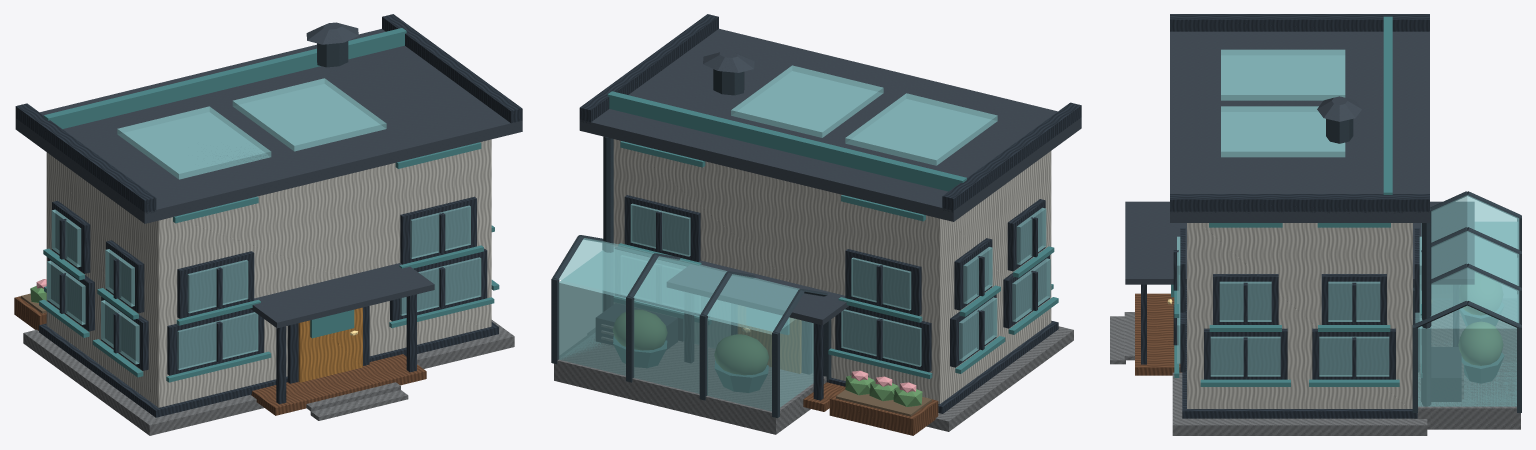
File: house_modern_lv4_greenhouse.glb
3 renders of one model, left to right at view 1: azimuth 30°, elevation 25°; view 2: azimuth 150°, elevation 25°; view 3: azimuth 270°, elevation 25°, orthographic.
Parts seen in each view (by area): view 1: walls, flat_roof, solar_panel.001, solar_panel, foundation, roof_terrace, front_porch_canopy, front_window_frame, front_deck, floor_trim, front_window_frame.002, front_window_frame.003 (+33 smaller); view 2: walls, flat_roof, greenhouse_glazing, greenhouse_plinth, greenhouse_roof, roof_terrace, solar_panel, solar_panel.001, back_porch_canopy, back_window_frame, back_window_frame.002, back_window_frame.003 (+38 smaller); view 3: flat_roof, walls, greenhouse_glazing, greenhouse_roof, solar_panel, solar_panel.001, greenhouse_plinth, foundation, parapet.001, parapet, front_porch_canopy, right_window_frame (+28 smaller).
Boxes of the visible parts, x1,y1,x2,y2 form: walls: (46,139,491,407); flat_roof: (15,29,522,223); solar_panel.001: (232,78,386,151); solar_panel: (117,106,271,179); foundation: (23,320,514,435); roof_terrace: (43,28,406,128); front_porch_canopy: (250,263,434,328); front_window_frame: (167,308,264,375); front_deck: (251,354,426,415); floor_trim: (39,322,498,417); front_window_frame.002: (177,251,254,318); front_window_frame.003: (400,196,476,264); walls: (613,139,1051,403); flat_roof: (579,28,1081,221); greenhouse_glazing: (558,247,813,411); greenhouse_plinth: (554,337,826,434); greenhouse_roof: (559,238,799,331); roof_terrace: (607,91,966,191); solar_panel: (845,93,997,165); solar_panel.001: (731,65,883,137); back_porch_canopy: (667,260,849,325); back_window_frame: (835,306,931,372); back_window_frame.002: (845,249,921,315); back_window_frame.003: (624,195,700,261); flat_roof: (1170,31,1429,222); walls: (1187,223,1412,408); greenhouse_glazing: (1418,222,1517,406); greenhouse_roof: (1415,195,1519,323); solar_panel: (1221,49,1345,100); solar_panel.001: (1221,106,1345,157); greenhouse_plinth: (1414,312,1520,429); foundation: (1172,372,1427,435); parapet.001: (1170,194,1429,213); parapet: (1170,14,1429,31); front_porch_canopy: (1125,201,1186,284); right_window_frame: (1204,328,1287,379).
Size of the model in its own units: 6.6 by 4.75 by 6.19.
Materials: 13 (7 with a texture image).
